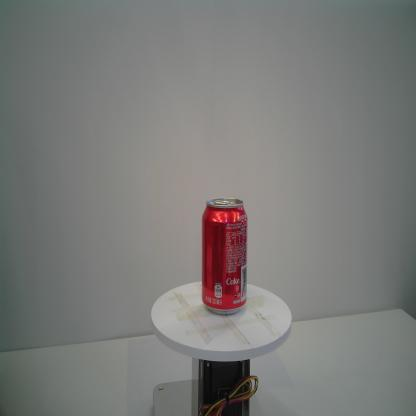Drink: (200, 196, 248, 319)
